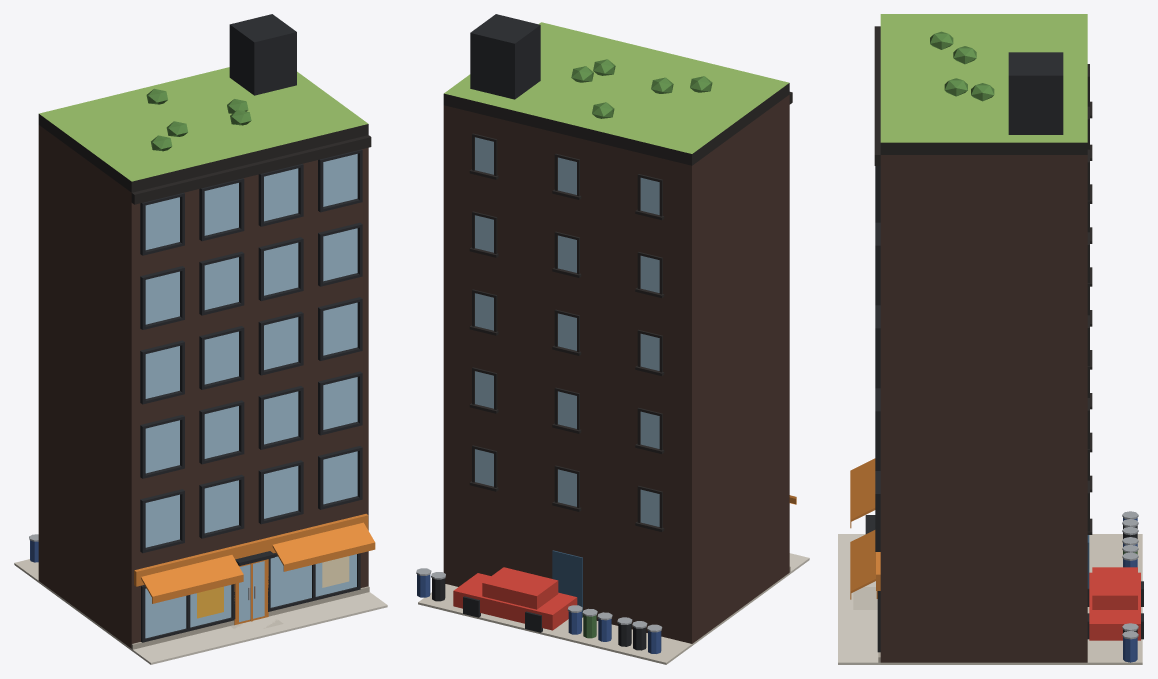
Rendered from Blok_duz_6k_5_Hafif.fbx.
3 views of the same model, side by side, from view 1: azimuth 30°, elevation 25°; view 2: azimuth 150°, elevation 25°; view 3: azimuth 270°, elevation 25° (orthographic). The views are drawn at different scales.
Visible parts, largest first — view 1: Blok_duz_6k_5_Hafif; view 2: Blok_duz_6k_5_Hafif; view 3: Blok_duz_6k_5_Hafif.
Boxes of the visible parts, x1,y1,x2,y2 form: Blok_duz_6k_5_Hafif: (14,14,387,664); Blok_duz_6k_5_Hafif: (416,14,809,664); Blok_duz_6k_5_Hafif: (838,14,1143,664).
Size of the model in its own units: 10.27 by 21.12 by 10.04.
